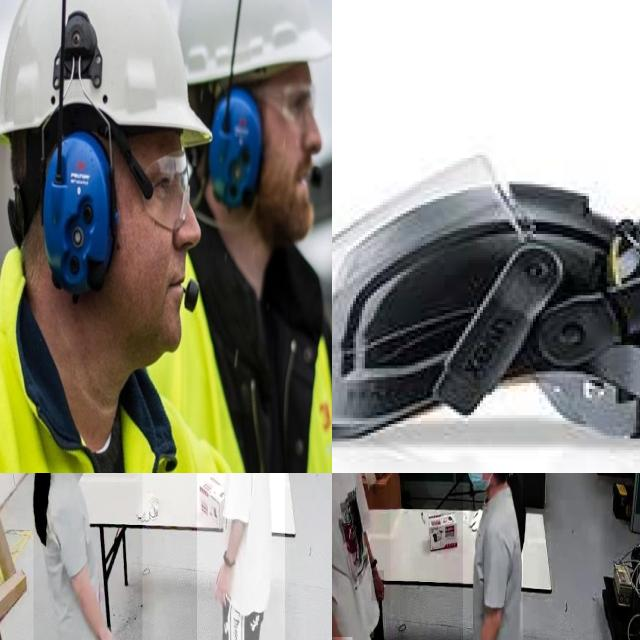Ear-protection: (38, 108, 116, 294), (211, 70, 266, 209), (603, 181, 640, 350)
face_mask: (461, 473, 489, 491)
glasses: (137, 149, 199, 234), (238, 80, 332, 117)
hand_noglove: (212, 561, 232, 606), (372, 570, 384, 602), (99, 627, 116, 640)
head_helmet: (332, 172, 640, 444), (0, 0, 211, 167), (181, 0, 331, 74)
person: (33, 473, 142, 640), (196, 473, 285, 640), (462, 473, 523, 640), (332, 473, 391, 640)
